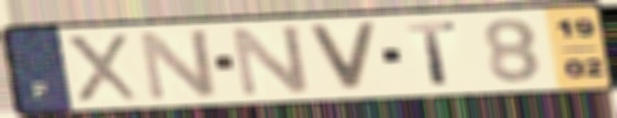8: (480, 16, 546, 85)
N: (135, 26, 222, 104), (228, 22, 314, 100)
T: (402, 20, 462, 88)
V: (302, 21, 381, 94)
X: (60, 32, 143, 105)
